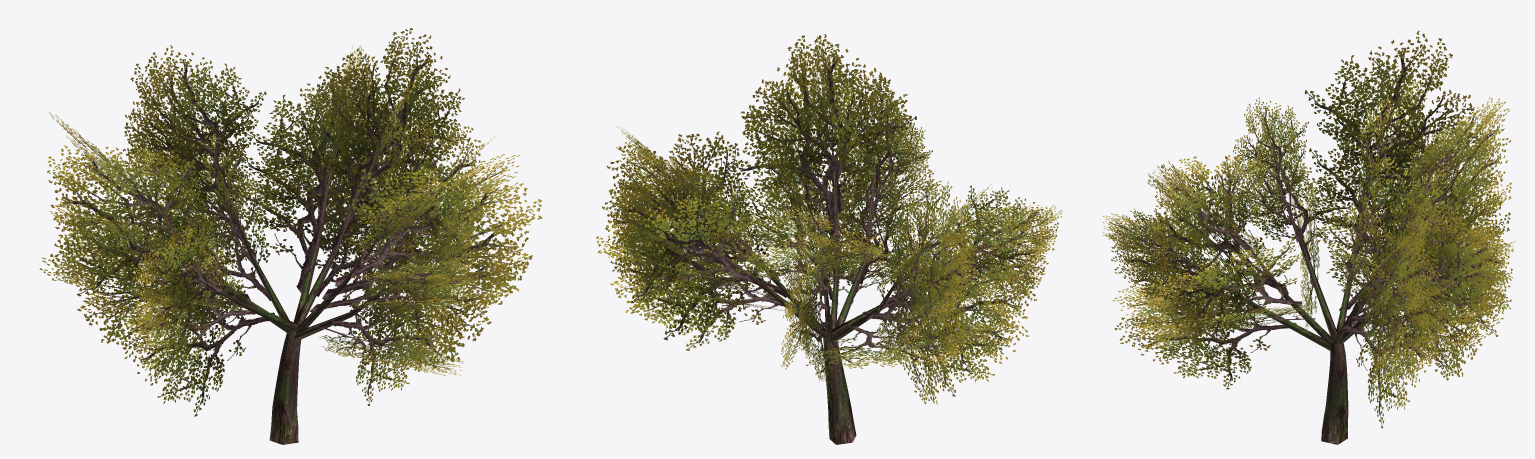
File: ginkgo_lod2.glb
3 views of the same model, side by side, from view 1: azimuth 30°, elevation 25°; view 2: azimuth 150°, elevation 25°; view 3: azimuth 270°, elevation 25° (orthographic). The views are drawn at different scales.
Parts seen in each view (by area): view 1: ginkgo_lod2; view 2: ginkgo_lod2; view 3: ginkgo_lod2.
Boxes of the visible parts, box(x1,y1,x2,y2) form: ginkgo_lod2: box(39, 28, 542, 444); ginkgo_lod2: box(596, 34, 1062, 444); ginkgo_lod2: box(1102, 30, 1515, 444).
Size of the model in its own units: 26.32 by 21.93 by 24.99.
Materials: 2 (2 with a texture image).
